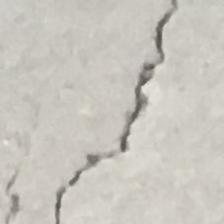Crack: (51, 0, 190, 224)
